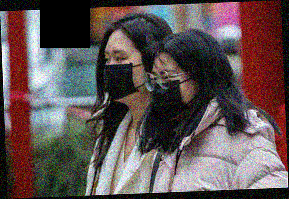with_mask: (150, 67, 199, 121), (103, 48, 145, 102)
